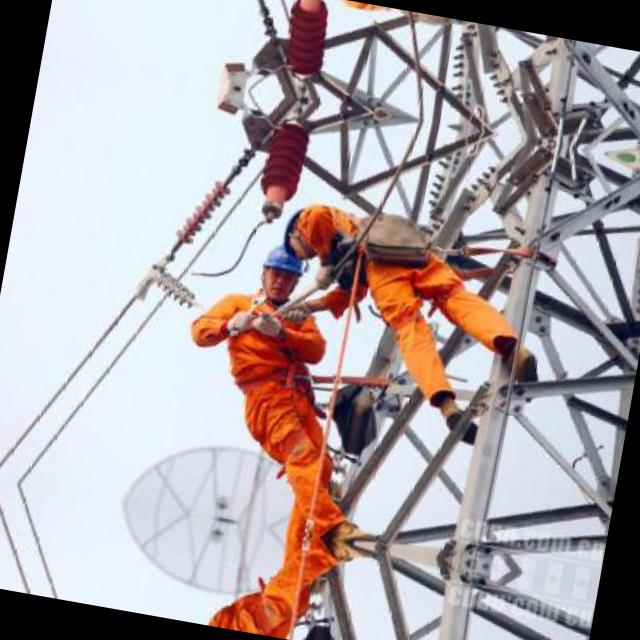helmet: (246, 230, 308, 308), (284, 200, 340, 260)
